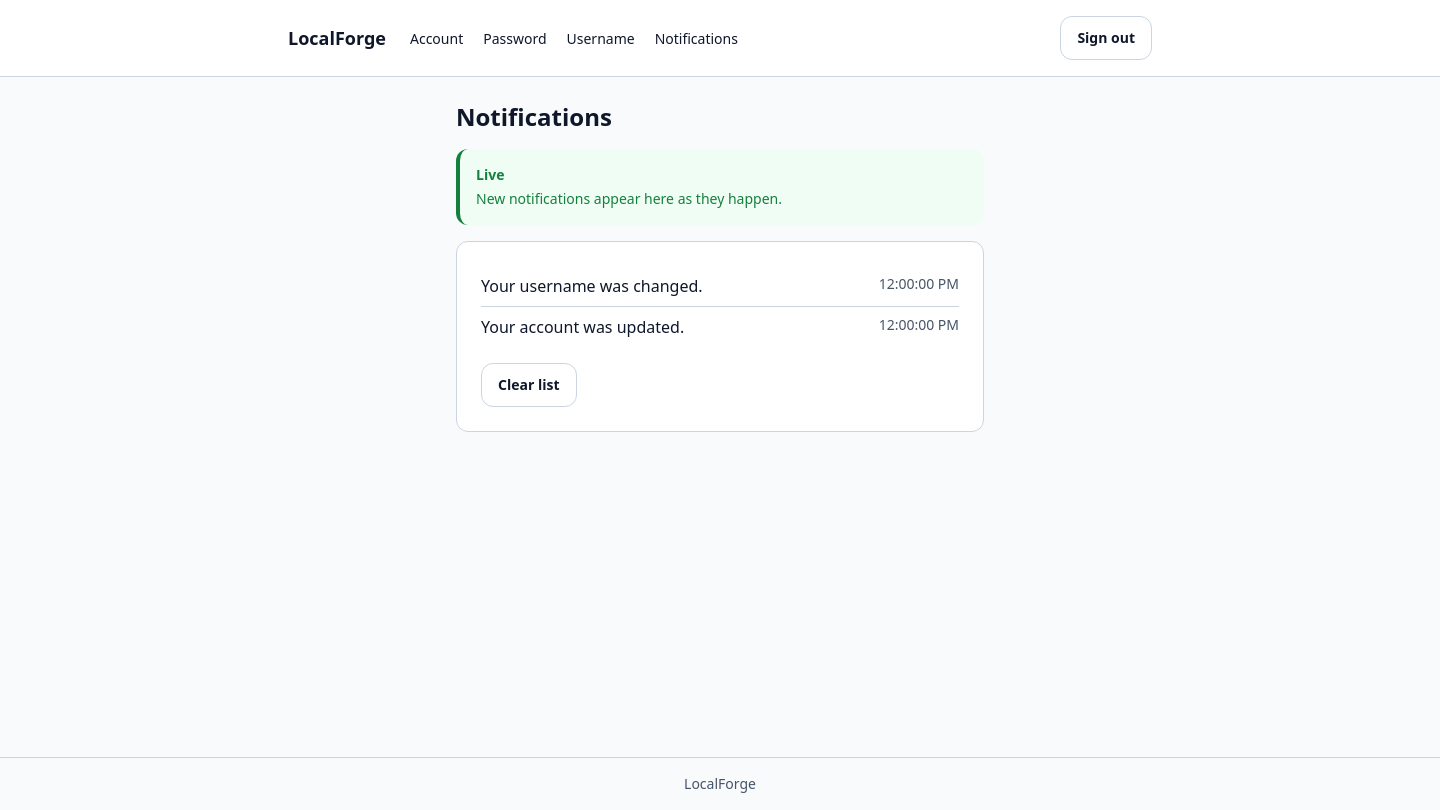
Test: the live feed › lists notifications newest first, announces the latest, and clears the list
Click the button "Clear list" at [529, 385], box x1=481 y1=363 x2=576 y2=407
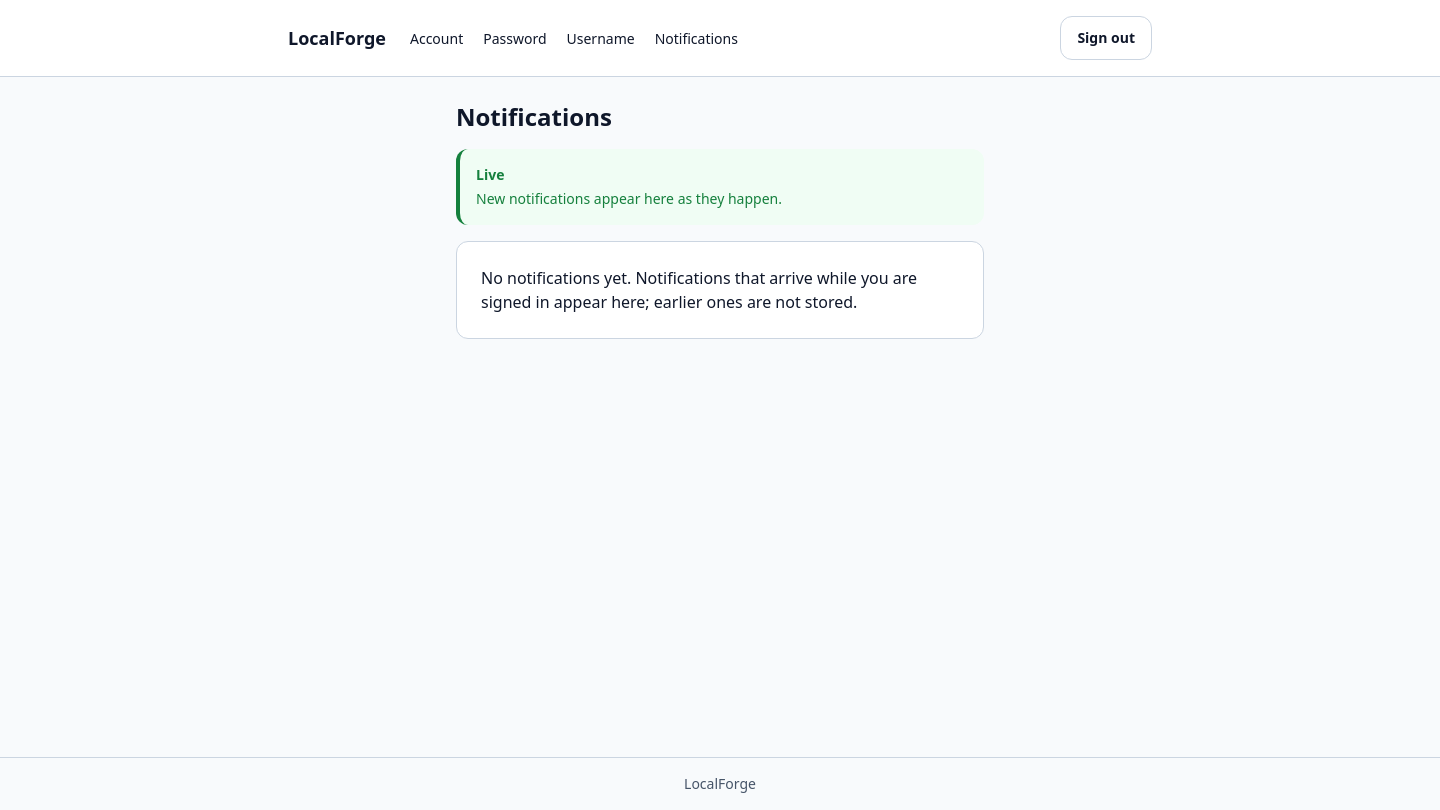
Now no the list item "Your username was changed. 12:00:00 PM" are shown
Now the text "No notifications yet" is shown, box x1=481 y1=267 x2=917 y2=313
